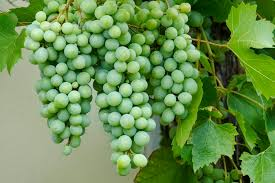grapes: (29, 16, 102, 155), (102, 9, 154, 173), (160, 13, 196, 121)
